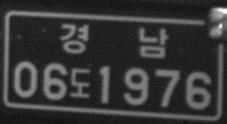0: (12, 60, 39, 99)
1: (94, 64, 115, 103)
6: (41, 61, 69, 102), (184, 70, 212, 111)
7: (153, 66, 181, 109)
9: (122, 65, 151, 108)
경남_D: (59, 21, 170, 59)
도: (69, 65, 91, 99)
